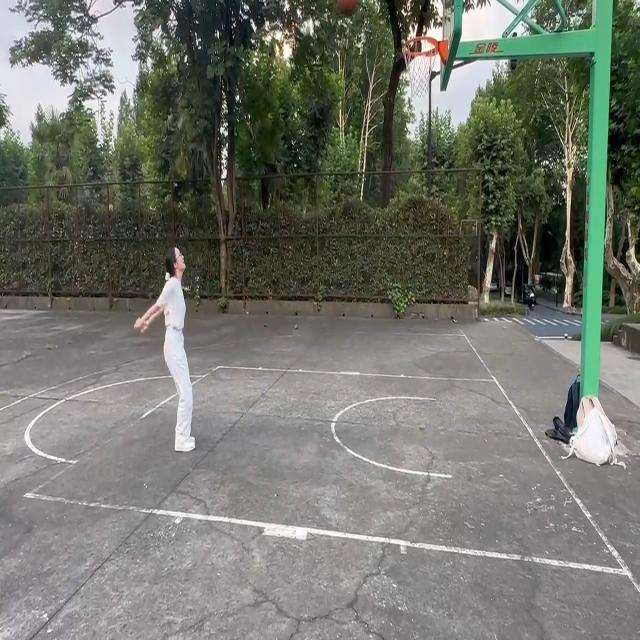basketball: (400, 36, 440, 96)
rim: (338, 0, 360, 15)
